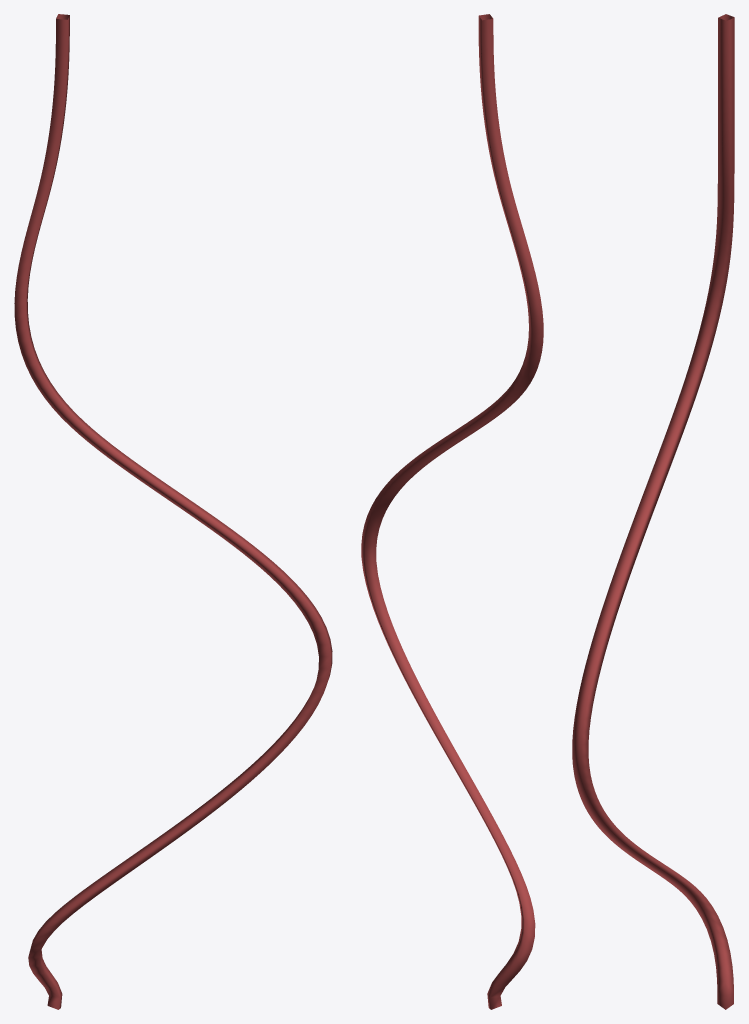
The model's file is wireFourStraightPrime.fbx.
3 renders of one model, left to right at view 1: azimuth 30°, elevation 25°; view 2: azimuth 150°, elevation 25°; view 3: azimuth 270°, elevation 25°, orthographic.
Parts seen in each view (by area): view 1: extrudedSurface7; view 2: extrudedSurface7; view 3: extrudedSurface7.
Boxes of the visible parts, bbox=[...] form: extrudedSurface7: bbox=[14, 14, 332, 1009]; extrudedSurface7: bbox=[361, 14, 543, 1009]; extrudedSurface7: bbox=[572, 14, 734, 1009].
Size of the model in its own units: 15.65 by 59.37 by 8.81.
